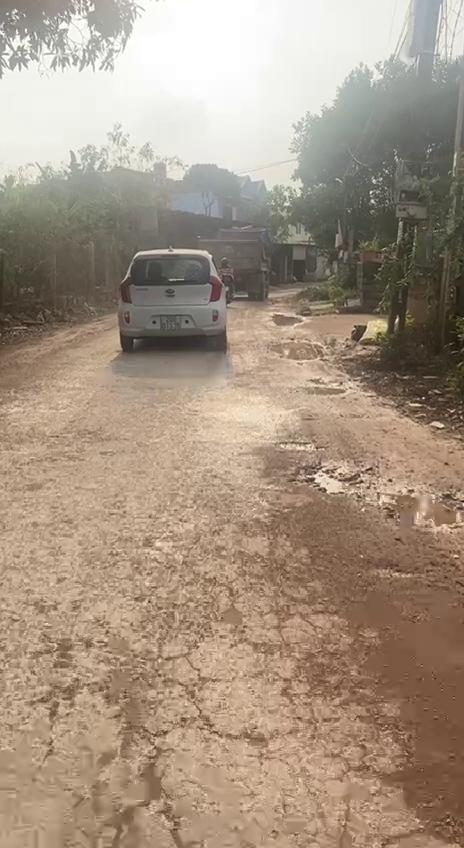pothole: (283, 459, 464, 533), (266, 336, 326, 364), (298, 379, 344, 399), (266, 312, 307, 330)
